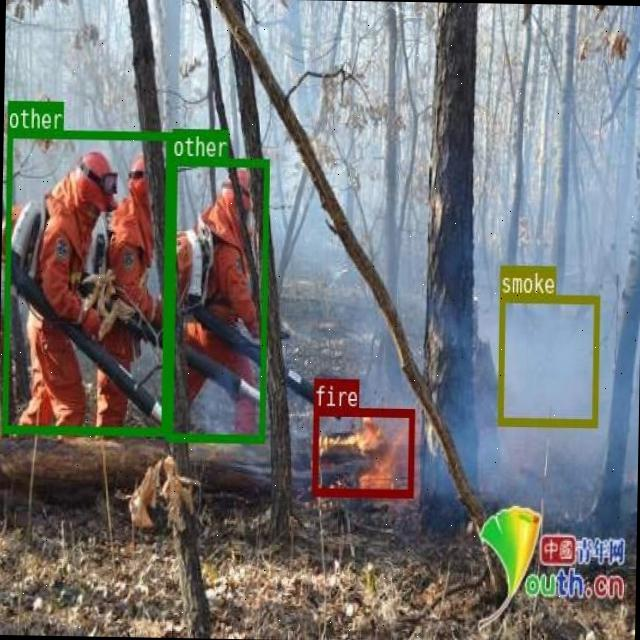fire: (310, 404, 412, 496)
smoke: (498, 292, 598, 425)
